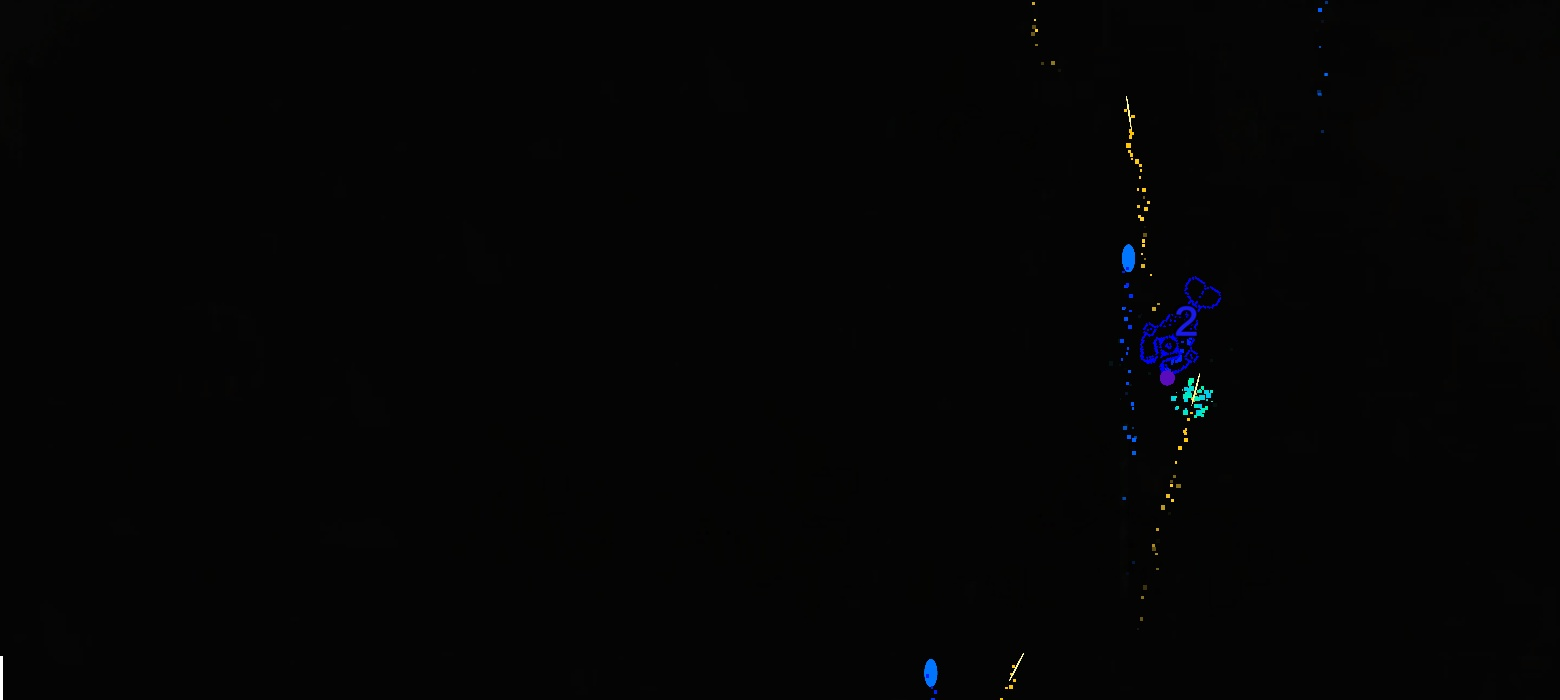enemy: (1140, 276, 1223, 377)
